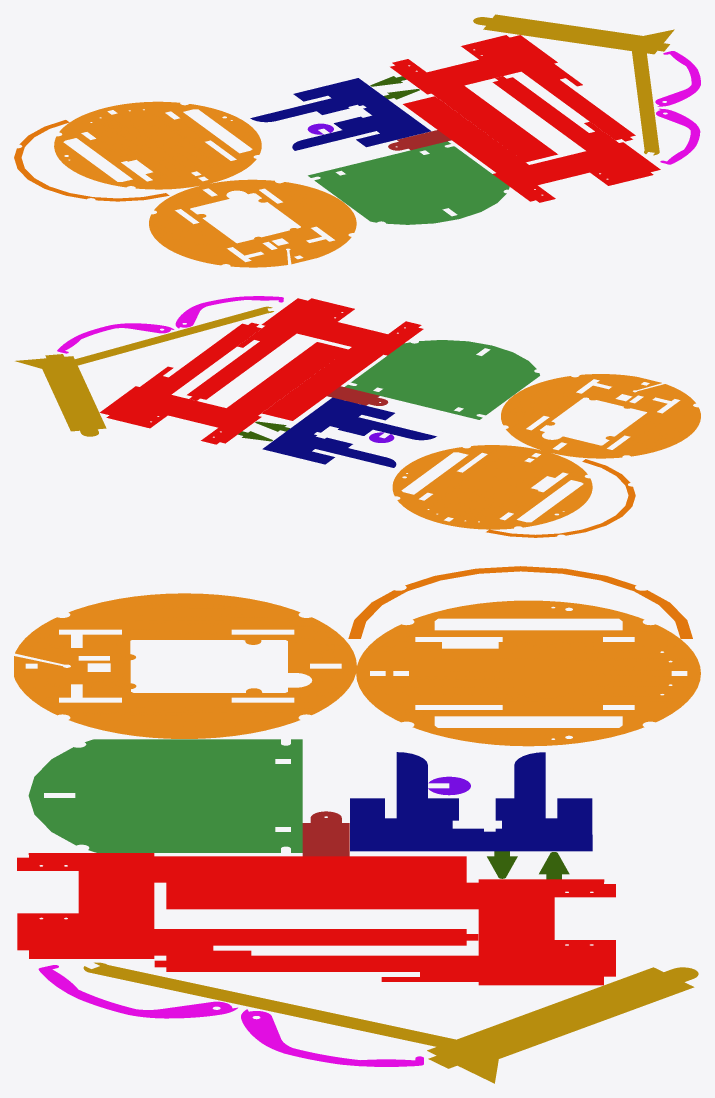
File: Knifebot_Flat_Pack_2D.dae
3 renders of one model, top to bottom at view 1: azimuth 30°, elevation 25°; view 2: azimuth 150°, elevation 25°; view 3: azimuth 270°, elevation 25°, orthographic. The views are drawn at different scales.
Visible parts, largest first — view 1: SketchUp (×10); view 2: SketchUp (×10); view 3: SketchUp (×10).
Part boxes in pixels (left/top/right/bottom): SketchUp (×10): left=14, top=14, right=700, bottom=267; SketchUp (×10): left=15, top=296, right=700, bottom=537; SketchUp (×10): left=14, top=566, right=700, bottom=1083.
Bounding box in the file's own units: 19.54 × 10.96 × 0.00516.
